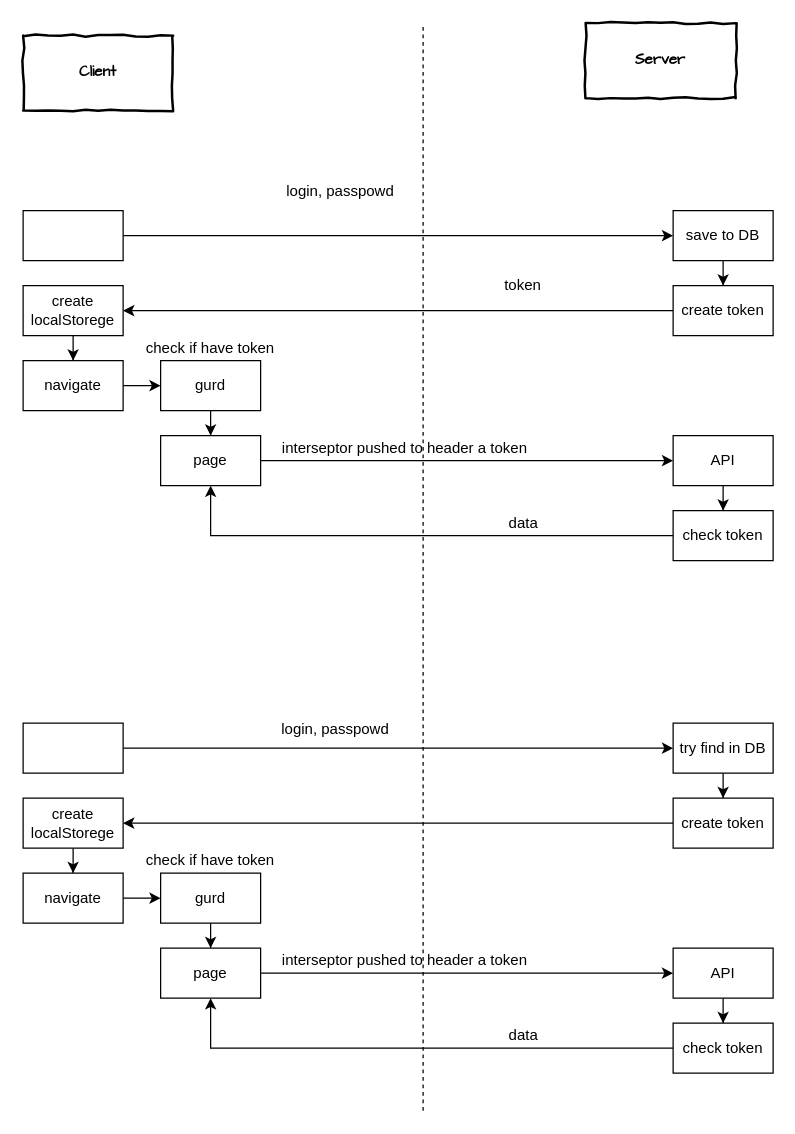
This 795x1134 diagram has some shape labels left out. The shapes that lost their labels are listed below. From the top down, each one's centre as x and y in pixels, then its label:
[72,235]: registration
[72,747]: login
